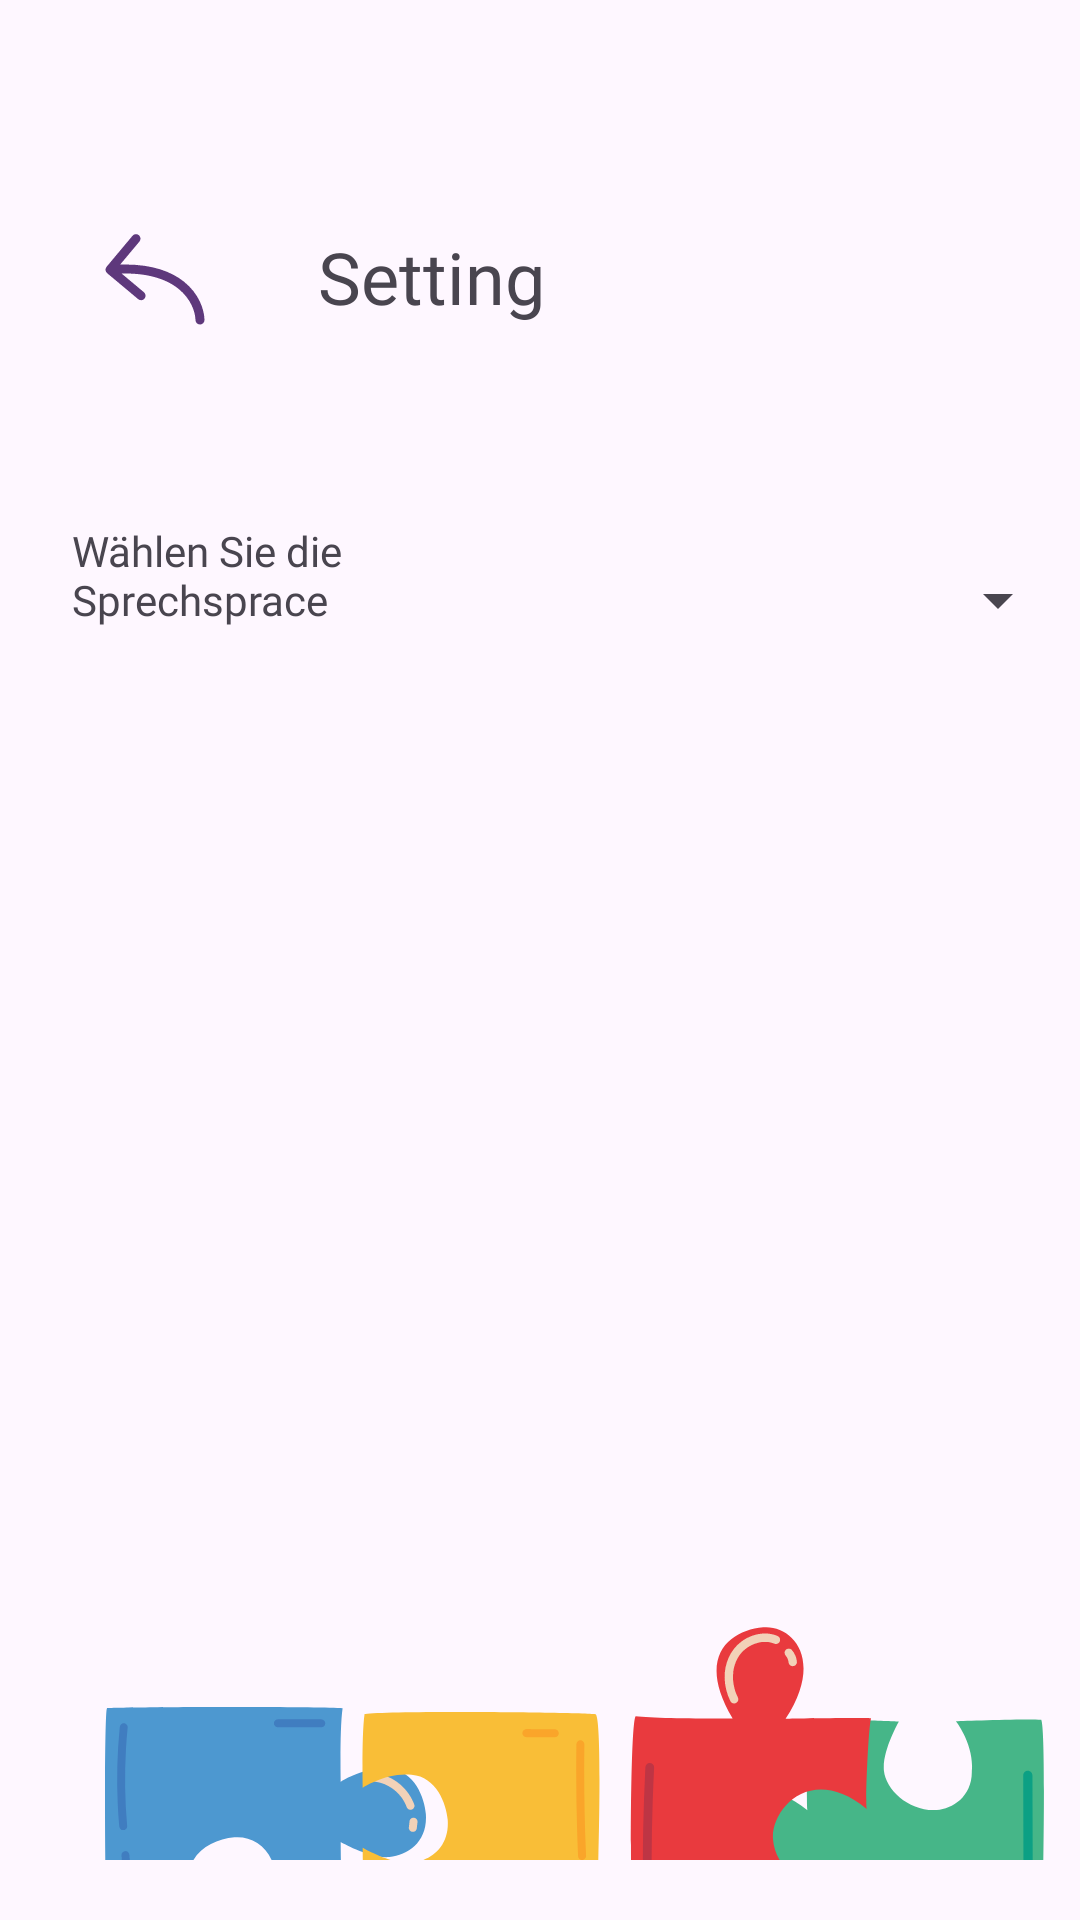

Screen size 1080 x 1920. Icon name, then its box in pixels as (x1,y1,x2,y2):
back: (105,234,205,325)
